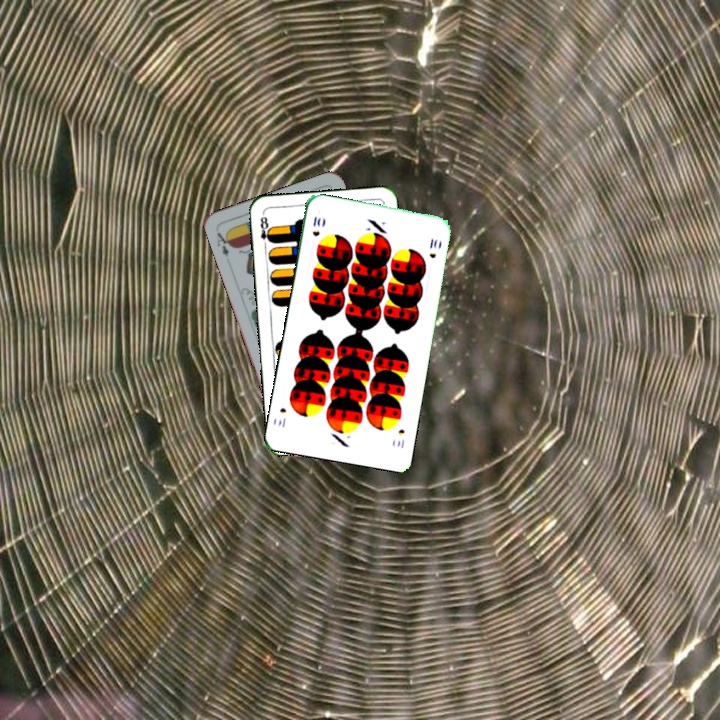E8: (256, 213, 274, 251)
EA: (213, 228, 235, 259)
S10: (308, 212, 323, 239), (393, 425, 407, 451)
